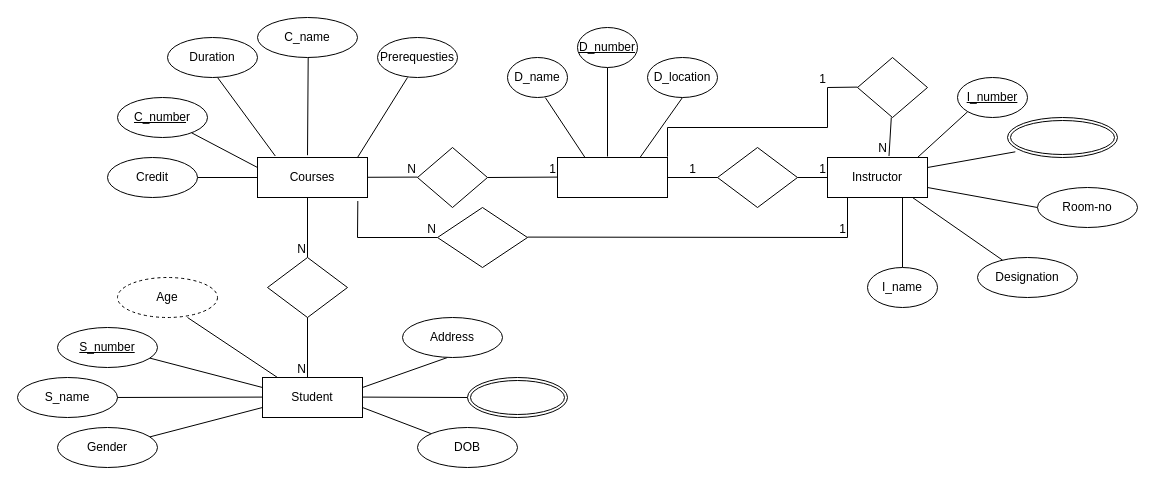
Image size: 1155x485. Some labels were removed from this diagram. The shapes that lost their labels are listed below. From the top down, each one's centre as x and y in pixels, then its label:
pixel 892 87: Has
pixel 1062 137: Mobile_number
pixel 452 177: offers
pixel 612 177: Department
pixel 757 177: needed by
pixel 482 237: is taught by
pixel 307 287: Enroll
pixel 517 397: Email
